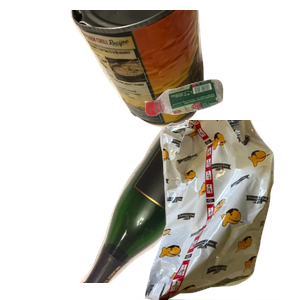glass: (66, 120, 279, 300)
metal: (68, 10, 265, 131)
plastic: (142, 77, 300, 186)
trash: (127, 120, 300, 300)
